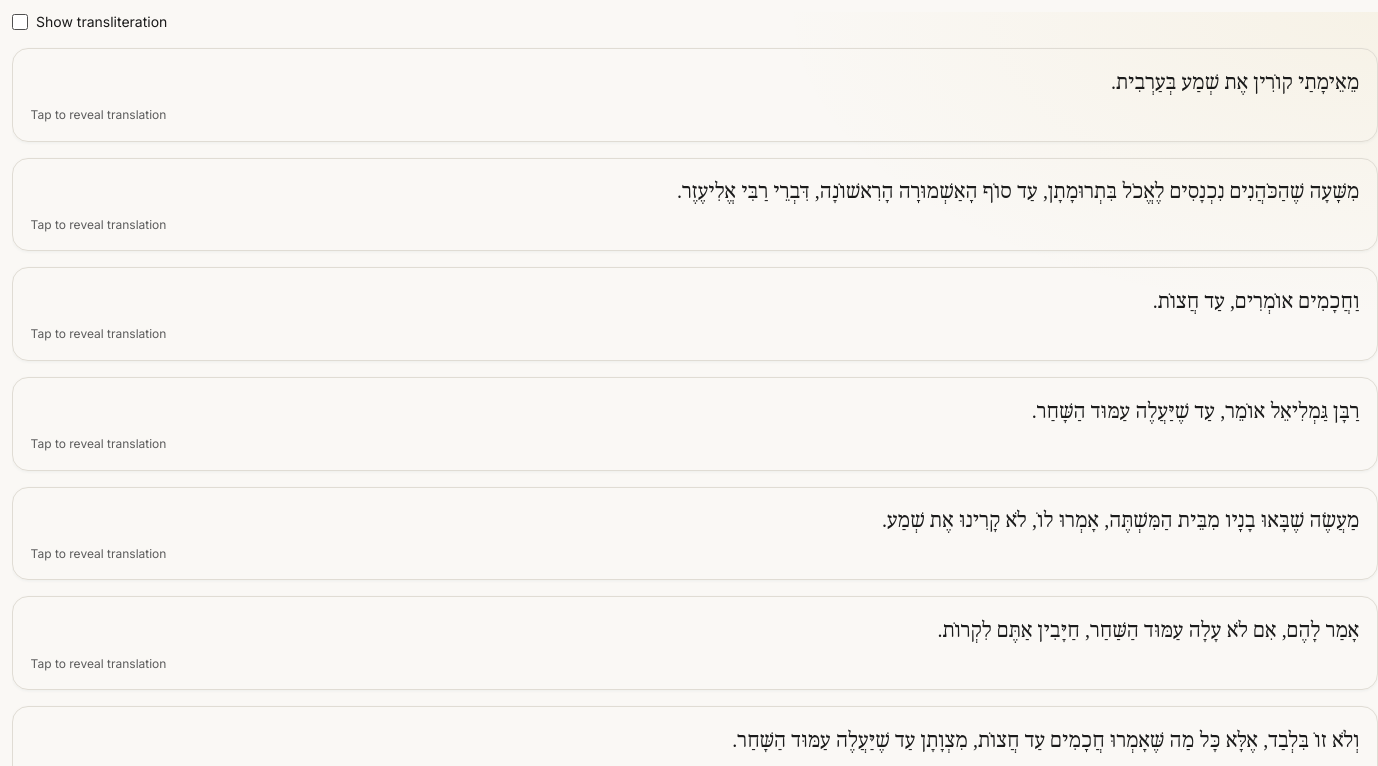
Test: BilingualReader › reveals translation on tap
Click the 1st element with class "cursor-pointer": [695, 95] box [12,48,1377,142]
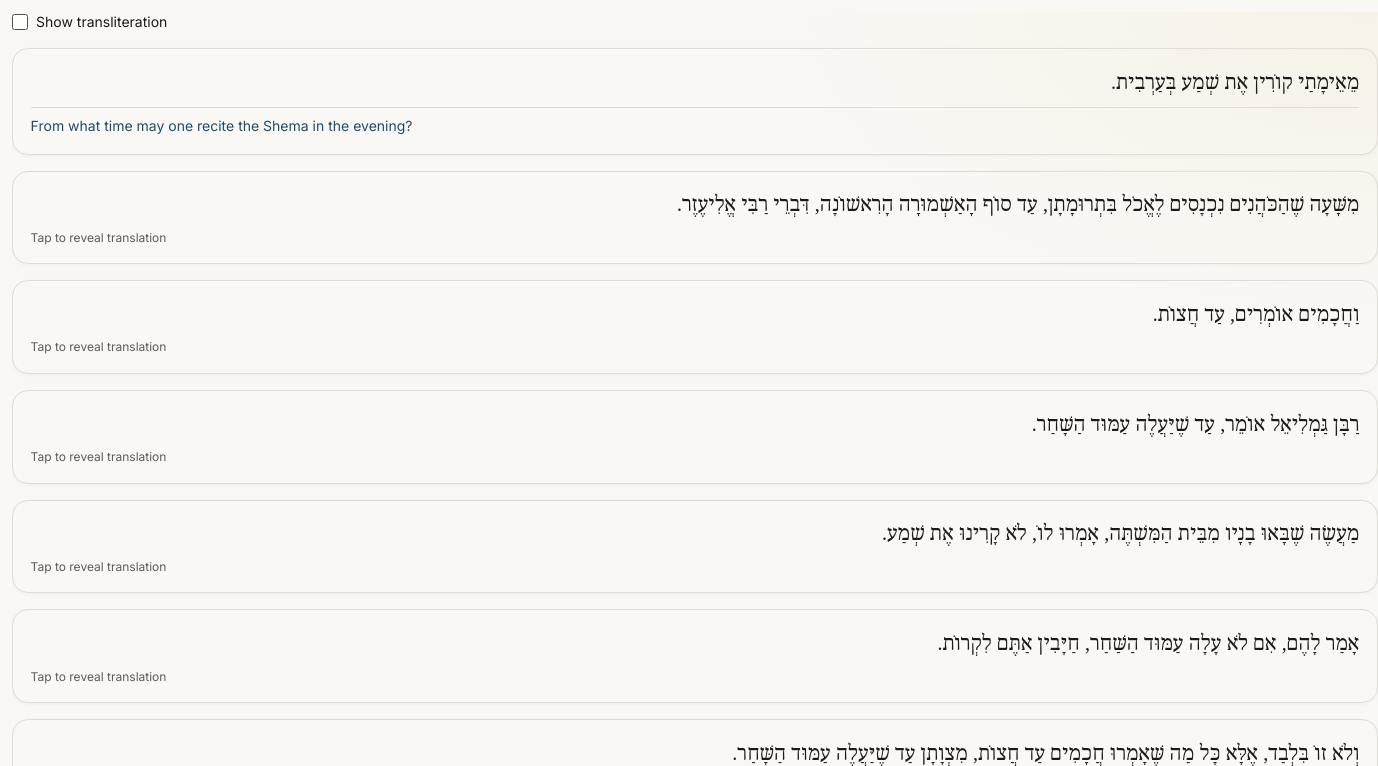
Expected: the text "From what time may one recite the Shema" is shown, [31,117,412,134]
